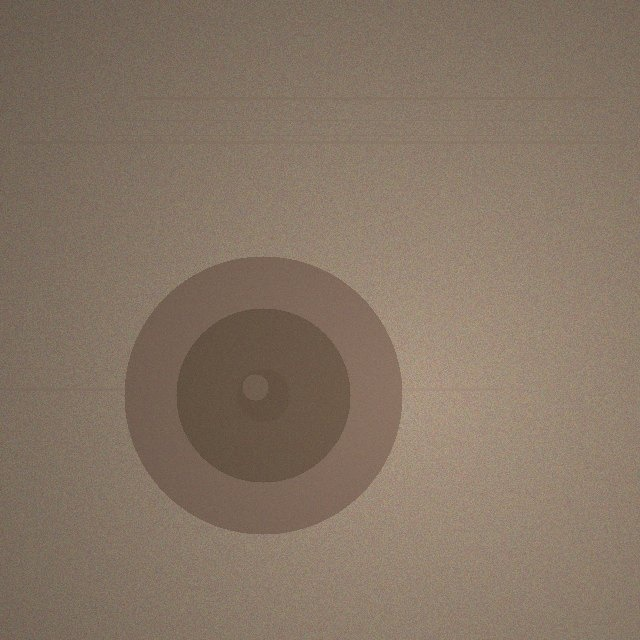good: (124, 256, 402, 534)
